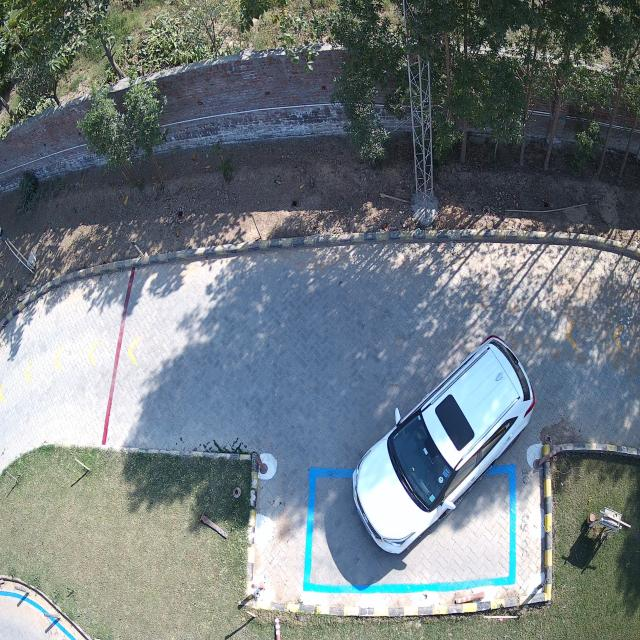car: (344, 339, 536, 562)
